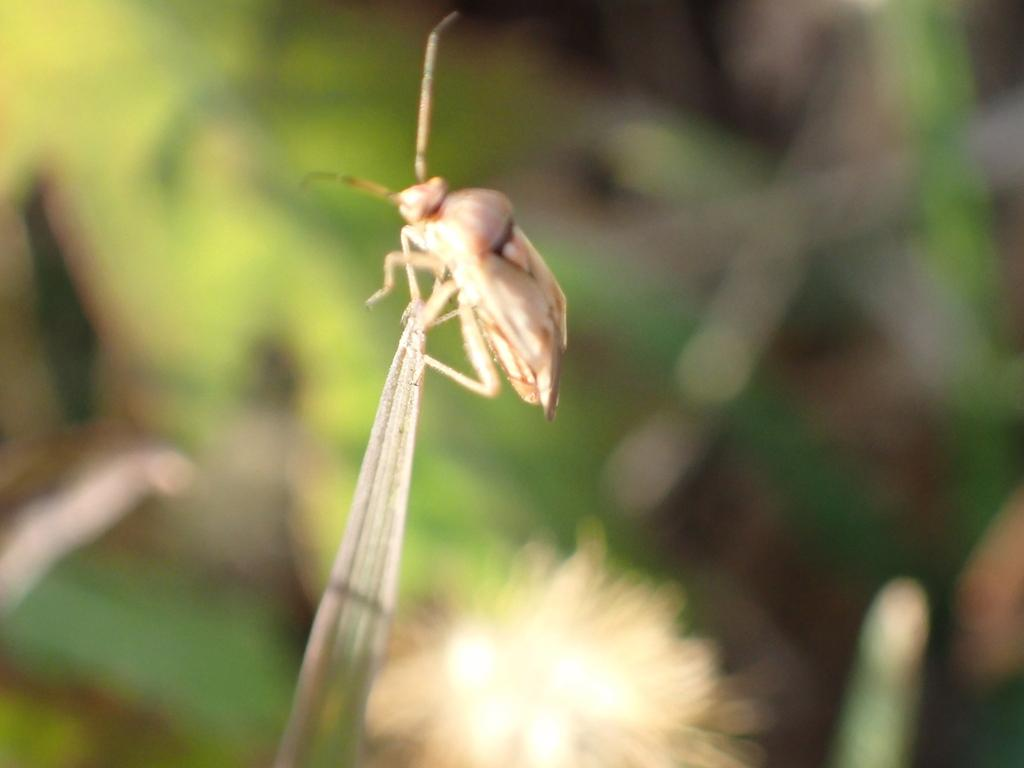plant_bugs: (274, 0, 644, 476)
